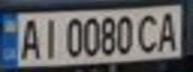0: (81, 14, 103, 57), (115, 12, 136, 56), (63, 15, 84, 58)
8: (100, 12, 118, 56)
A: (15, 15, 42, 61), (154, 8, 181, 53)
C: (136, 10, 163, 54)
I: (36, 15, 60, 60)
